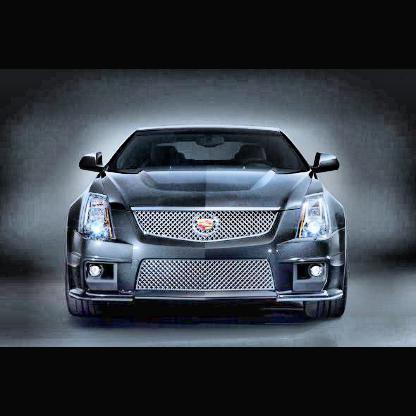Cadillac CTS-V Sedan 2012: (67, 125, 351, 323)
